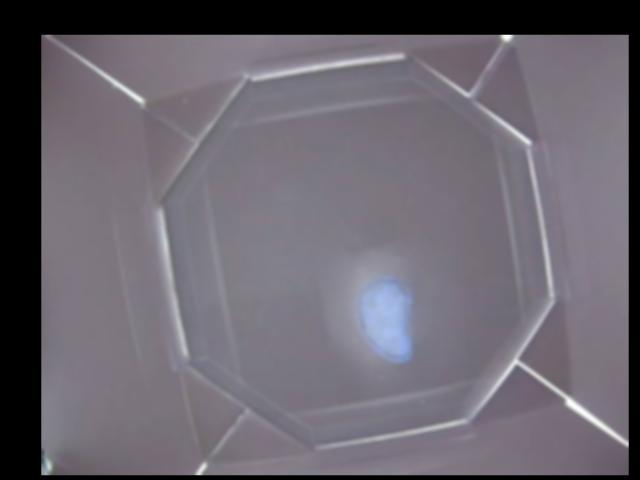Pebble: (359, 280, 413, 362)
